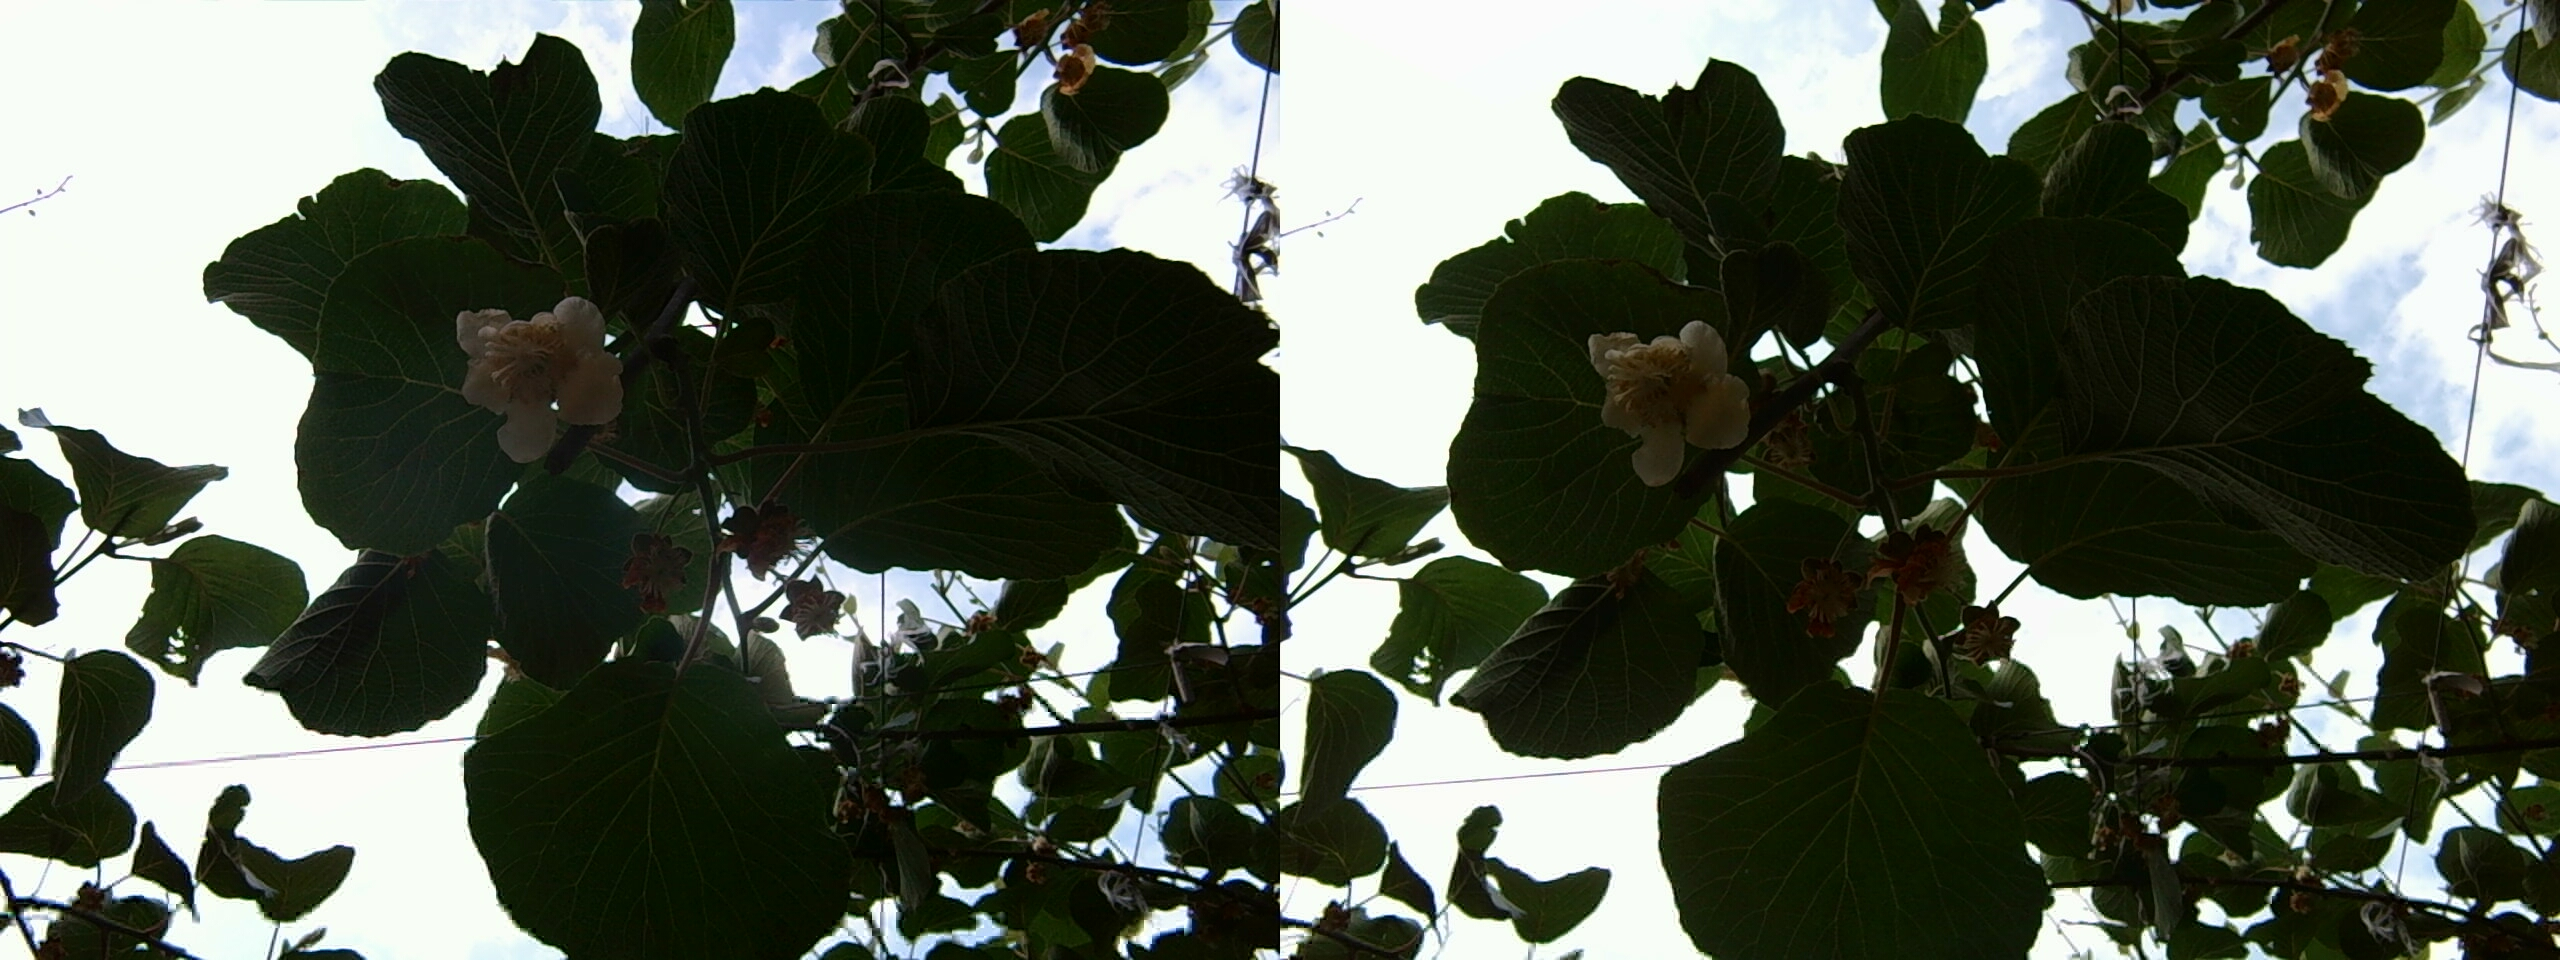flower: (446, 286, 625, 457), (1584, 318, 1749, 475)
